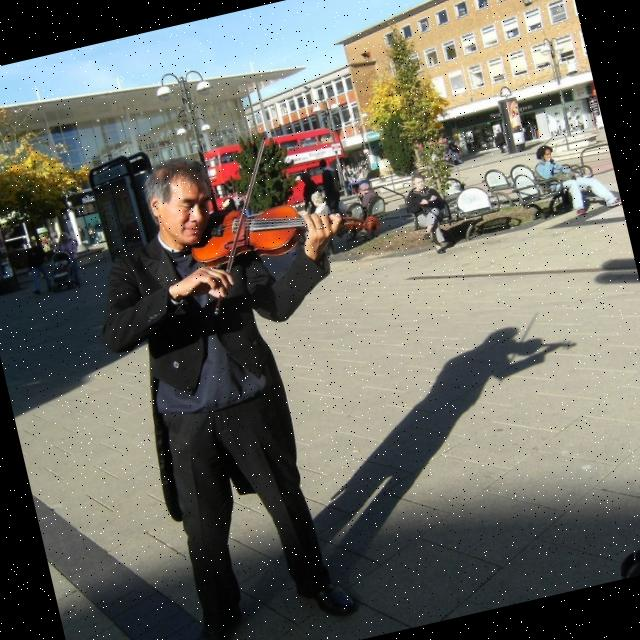violin: (180, 172, 388, 281)
